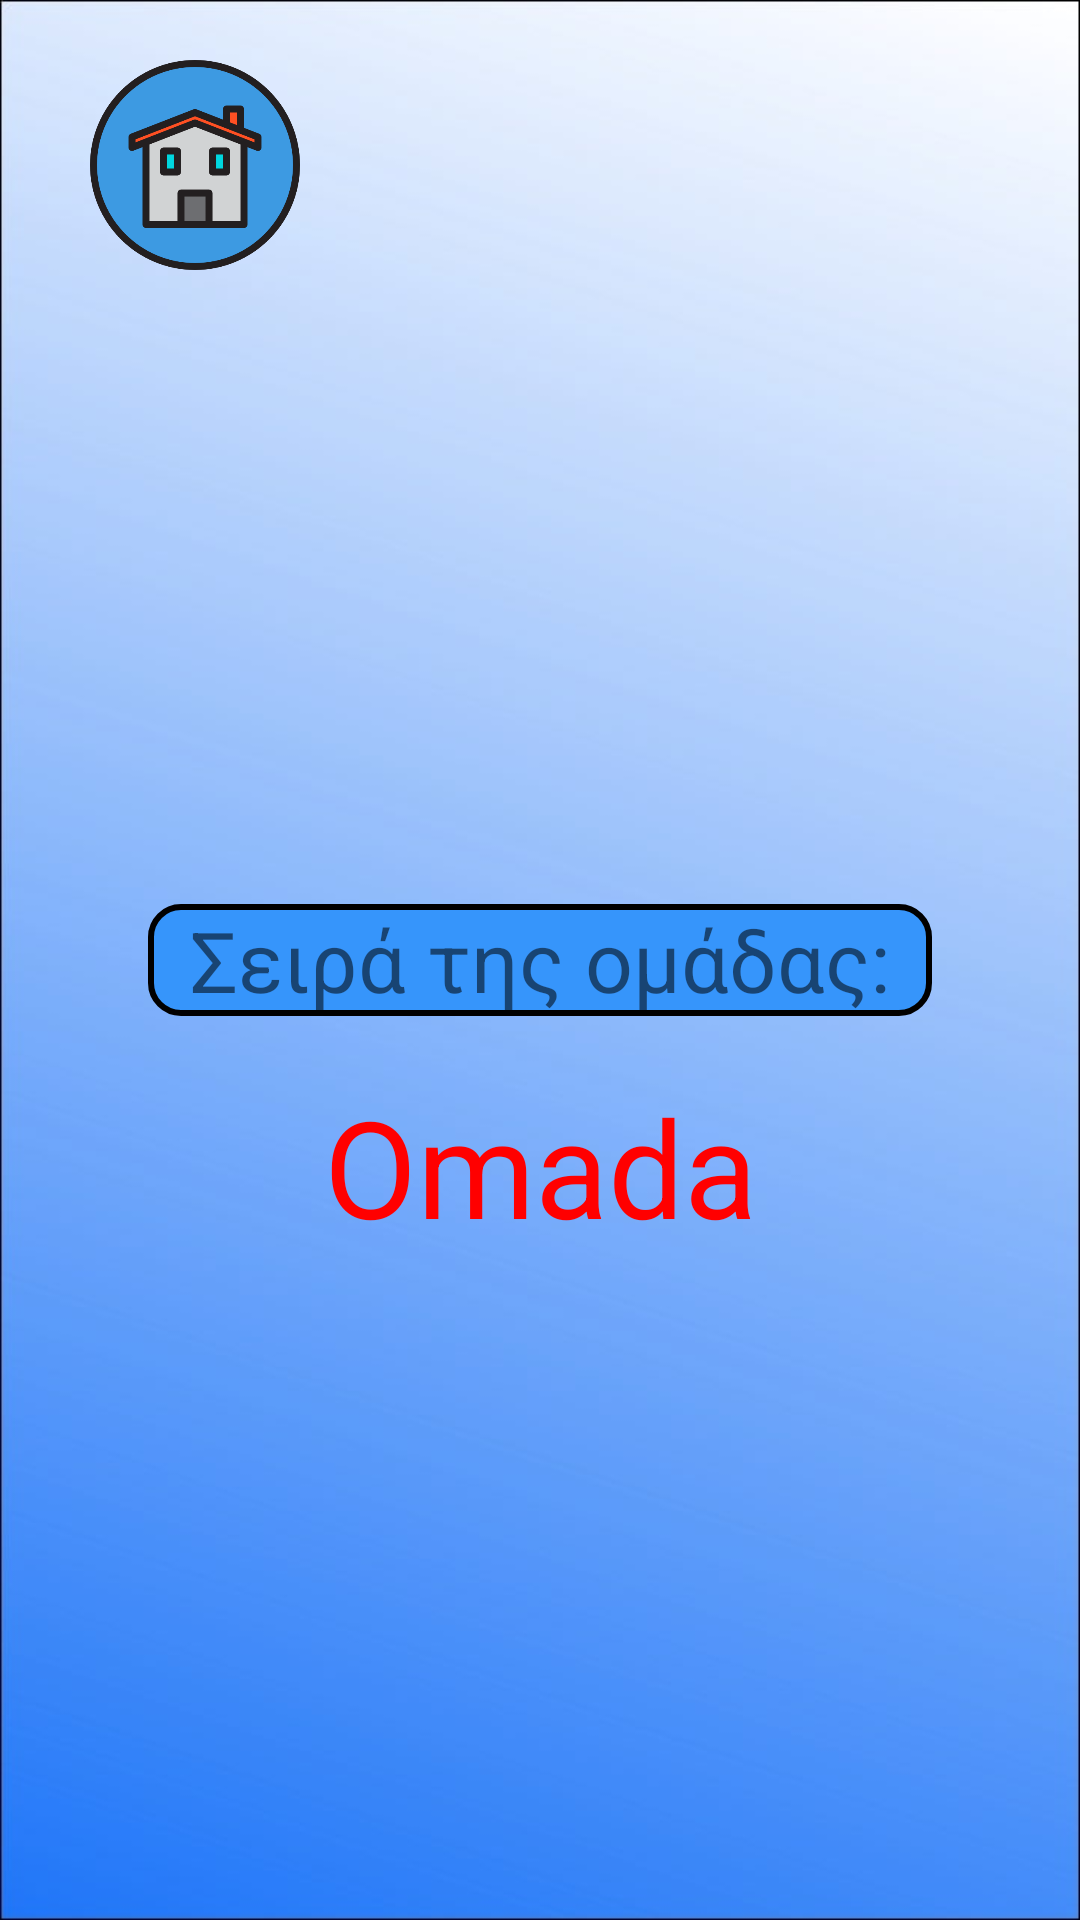

Point at icon controls on the screen. Image size 1080×1920, points as [x,y].
homepage: [195,165]
